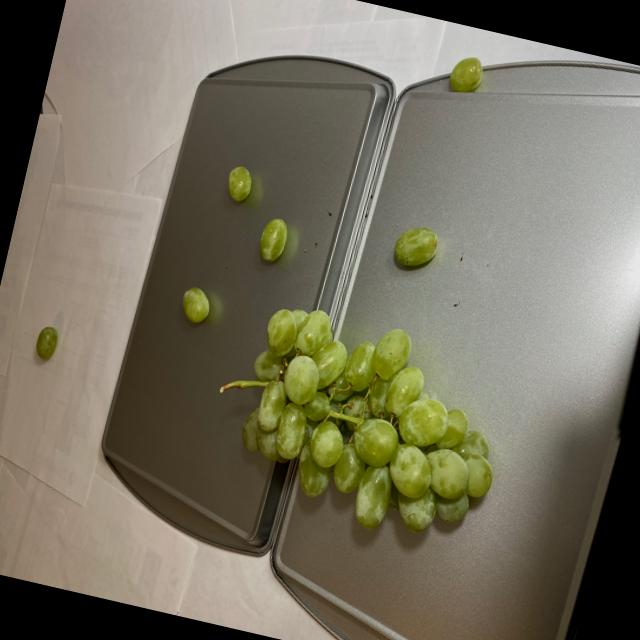grapes: (193, 203, 544, 557), (216, 156, 259, 208), (445, 52, 488, 97), (178, 281, 218, 328), (30, 324, 60, 368)
